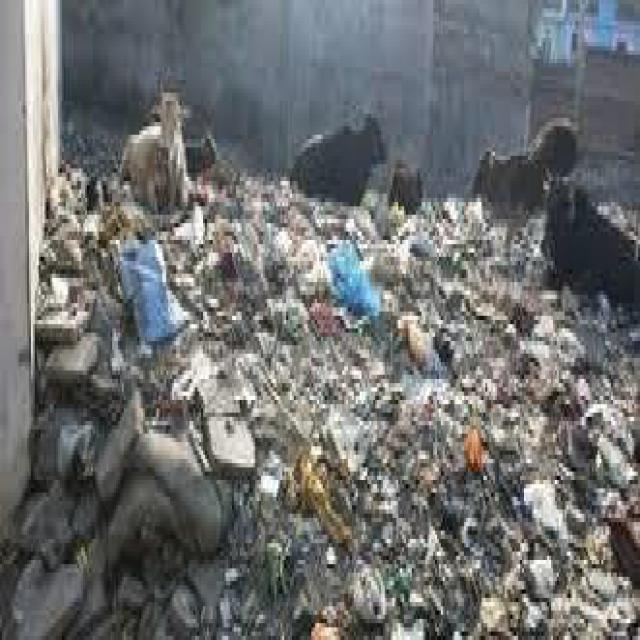garbage: (23, 189, 638, 636)
